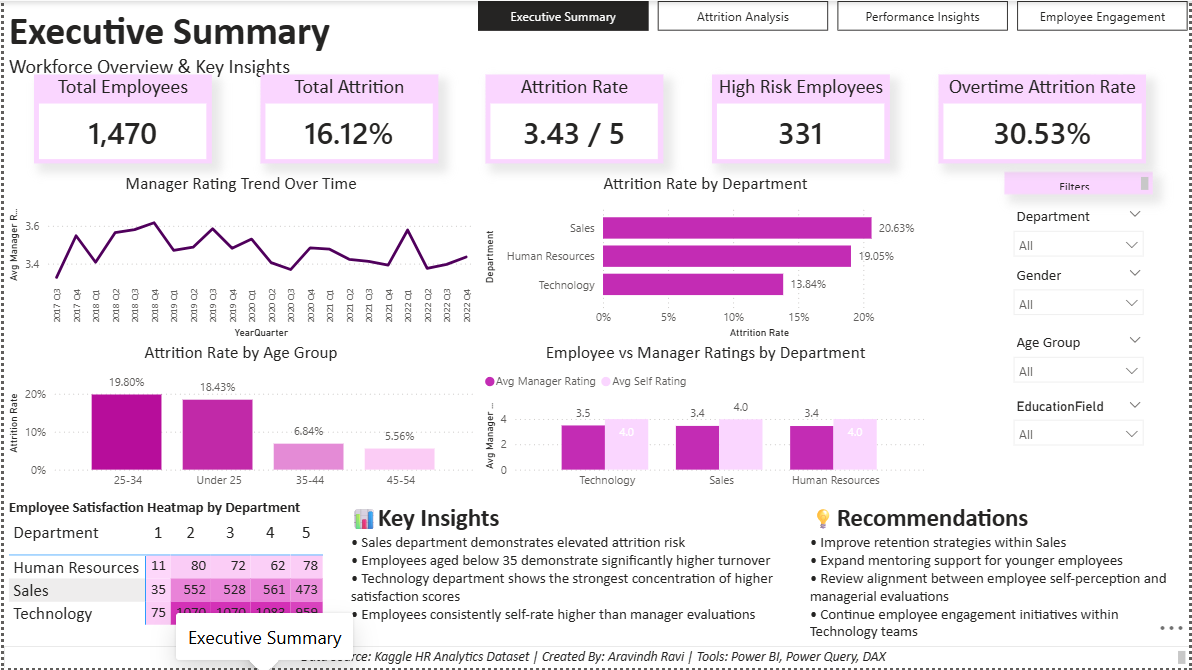

This screenshot's page, from the dashboard's own definition file:
{"tool":"powerbi","page":{"name":"Executive Summary","canvas":[1280,720],"ordinal":0},"visuals":[{"type":"textbox","box":[0,0,1280,97.3],"z":0},{"type":"cardVisual","title":"Total Employees","fields":{"Data":["Measure.Total Employees Display"]},"box":[32,80,192,96],"z":0,"group":"g2"},{"type":"cardVisual","title":"High Risk Employees","fields":{"Data":["Measure.High Risk Employees Display"]},"box":[764,80,192,96],"z":1000,"group":"g2"},{"type":"lineChart","title":"Manager Rating Trend Over Time","fields":{"Category":["DimDate.YearQuarter"],"Y":["Measure.Avg Manager Rating"]},"box":[0.6,183.9,512,184],"z":1000},{"type":"cardVisual","title":"Overtime Attrition Rate","fields":{"Data":["Measure.Overtime Attrition Rate"]},"box":[1008,80,224,96],"z":2000,"group":"g2"},{"type":"clusteredBarChart","fields":{"Category":["DimEmployee.Department"],"Y":["Measure.Attrition Rate"]},"box":[512.6,183.9,488,184],"z":2000},{"type":"cardVisual","title":"Total Attrition","fields":{"Data":["Measure.Attrition Rate"]},"box":[276,80,192,96],"z":3000,"group":"g2"},{"type":"clusteredColumnChart","fields":{"Category":["DimEmployee.Age Group"],"Y":["Measure.Attrition Rate"]},"box":[0.6,367.9,512,168],"z":3000},{"type":"cardVisual","title":"Attrition Rate","fields":{"Data":["Measure.Avg Satisfaction Display"]},"box":[520,80,192,96],"z":4000,"group":"g2"},{"type":"clusteredColumnChart","title":"Employee vs Manager Ratings by Department","fields":{"Category":["DimEmployee.Department"],"Y":["Measure.Avg Manager Rating","Measure.Avg Self Rating"]},"box":[512.6,367.9,488,168],"z":4000},{"type":"group","id":"g1","title":"Group 1","box":[1080.6,183.9,160,304],"z":5000},{"type":"pivotTable","title":"Employee Satisfaction Heatmap by Department","fields":{"Rows":["DimEmployee.Department"],"Columns":["FactPerformance.JobSatisfaction","FactPerformance.WorkLifeBalance"],"Values":["CountNonNull(FactPerformance.EmployeeID)"]},"box":[0.6,535.9,416,160],"z":6000},{"type":"textbox","box":[368.6,535.9,496,160],"z":7000},{"type":"textbox","box":[864.6,535.9,416,160],"z":8000},{"type":"textbox","box":[0,696,1280,24],"z":9000},{"type":"group","id":"g2","title":"Group 1","box":[32,80,1200,112],"z":10000},{"type":"pageNavigator","box":[512,0,768,32],"z":11000},{"type":"slicer","fields":{"Values":["DimEmployee.Department"]},"box":[1080.6,215.9,160,64],"z":16000,"group":"g1"},{"type":"textbox","box":[1080.6,183.9,160,24],"z":17000,"group":"g1"},{"type":"slicer","fields":{"Values":["DimEmployee.Gender"]},"box":[1080.6,279.9,160,72],"z":18000,"group":"g1"},{"type":"slicer","fields":{"Values":["DimEmployee.Age Group"]},"box":[1080.6,351.9,160,64],"z":19000,"group":"g1"},{"type":"slicer","fields":{"Values":["DimEmployee.EducationField"]},"box":[1080.6,423.9,160,64],"z":20000,"group":"g1"}]}

Visuals, with their boxes in screenshot pixels (x1, y1, x2, y2), scaled from the page's 1280x720 canvas onto the 1192x670 screenshot:
textbox: rect(0, 0, 1191, 91)
"Total Employees" cardVisual: rect(30, 74, 209, 164)
"High Risk Employees" cardVisual: rect(711, 74, 890, 164)
"Manager Rating Trend Over Time" lineChart: rect(1, 171, 477, 342)
"Overtime Attrition Rate" cardVisual: rect(939, 74, 1147, 164)
clusteredBarChart - DimEmployee.Department x Measure.Attrition Rate: rect(477, 171, 932, 342)
"Total Attrition" cardVisual: rect(257, 74, 436, 164)
clusteredColumnChart - DimEmployee.Age Group x Measure.Attrition Rate: rect(1, 342, 477, 499)
"Attrition Rate" cardVisual: rect(484, 74, 663, 164)
"Employee vs Manager Ratings by Department" clusteredColumnChart: rect(477, 342, 932, 499)
"Group 1" group: rect(1006, 171, 1155, 454)
"Employee Satisfaction Heatmap by Department" pivotTable: rect(1, 499, 388, 648)
textbox: rect(343, 499, 805, 648)
textbox: rect(805, 499, 1191, 648)
textbox: rect(0, 648, 1191, 669)
"Group 1" group: rect(30, 74, 1147, 179)
pageNavigator: rect(477, 0, 1191, 30)
slicer - DimEmployee.Department: rect(1006, 201, 1155, 260)
textbox: rect(1006, 171, 1155, 193)
slicer - DimEmployee.Gender: rect(1006, 260, 1155, 327)
slicer - DimEmployee.Age Group: rect(1006, 327, 1155, 387)
slicer - DimEmployee.EducationField: rect(1006, 394, 1155, 454)
